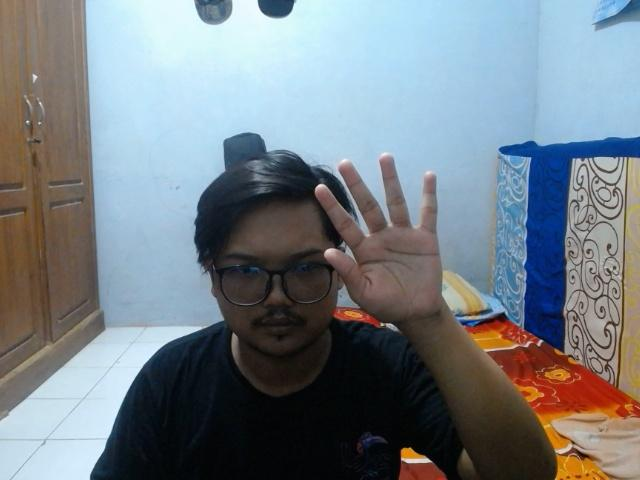Release: (309, 151, 472, 332)
